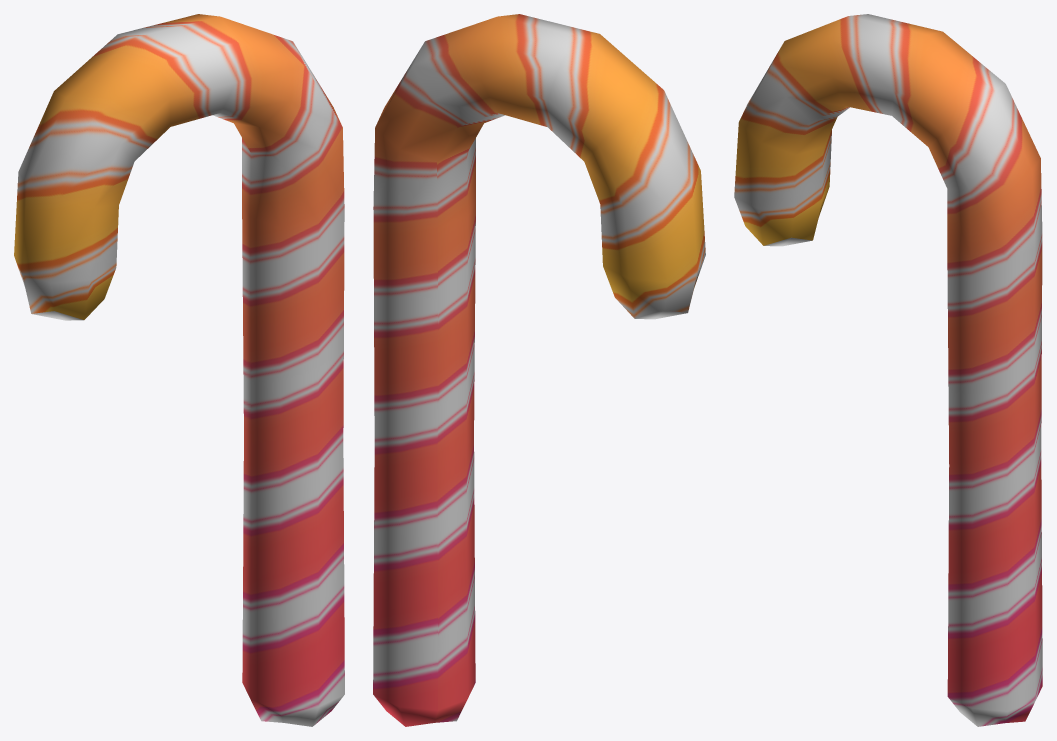
Rendered from CandyCane.fbx.
3 views of the same model, side by side, from view 1: azimuth 30°, elevation 25°; view 2: azimuth 150°, elevation 25°; view 3: azimuth 330°, elevation 25° (orthographic). The views are drawn at different scales.
Parts seen in each view (by area): view 1: CandyCane; view 2: CandyCane; view 3: CandyCane.
Boxes of the visible parts, bbox=[...] form: CandyCane: bbox=[14, 14, 344, 726]; CandyCane: bbox=[373, 14, 705, 726]; CandyCane: bbox=[734, 14, 1042, 726].
Bounding box in the file's own units: 35.08 × 76.67 × 10.12.
